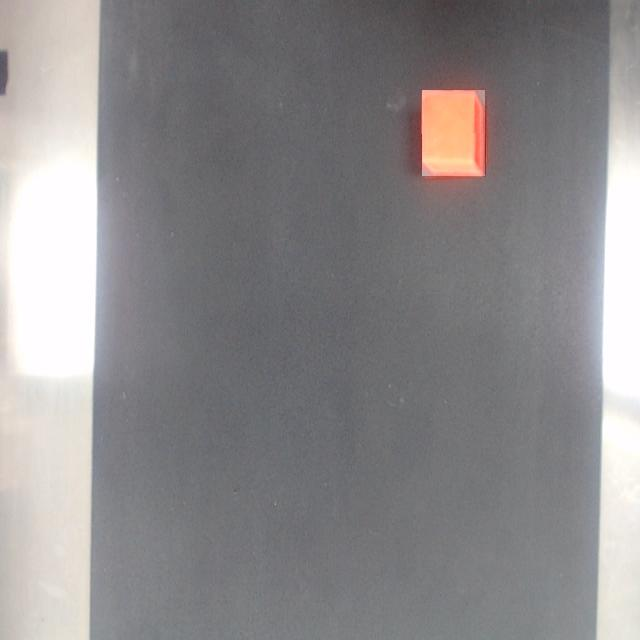Rojo: (422, 91, 485, 176)
